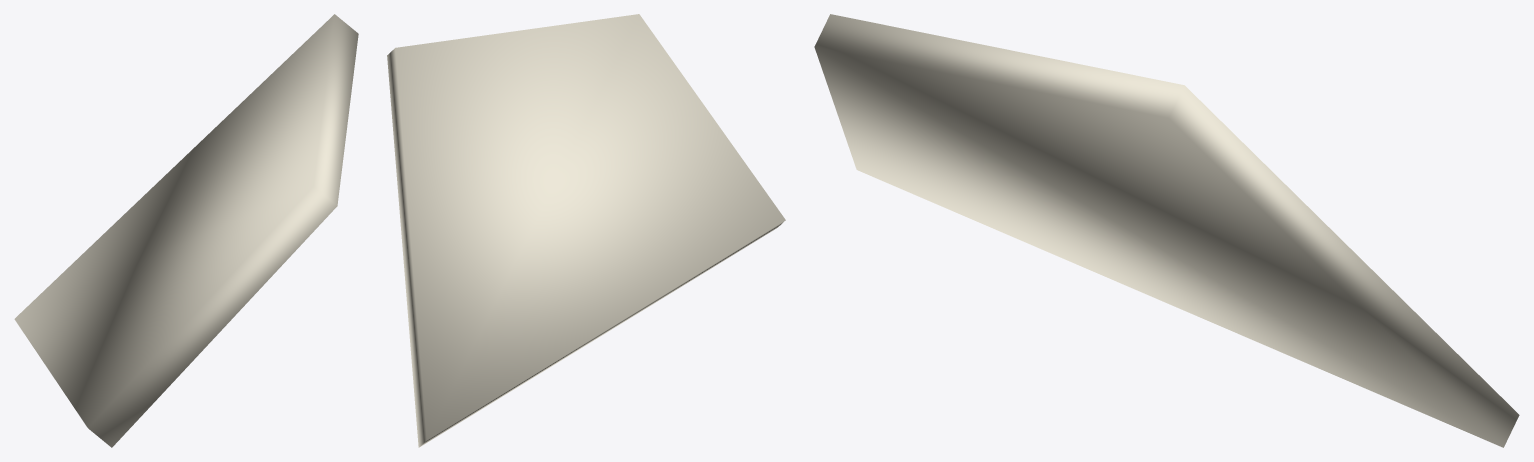
3 renders of one model, left to right at view 1: azimuth 30°, elevation 25°; view 2: azimuth 150°, elevation 25°; view 3: azimuth 270°, elevation 25°, orthographic. The views are drawn at different scales.
Visible parts, largest first — view 1: ZA_44937403db48a08e; view 2: ZA_44937403db48a08e; view 3: ZA_44937403db48a08e.
Boxes of the visible parts, x1,y1,x2,y2 form: ZA_44937403db48a08e: (14, 14, 358, 447); ZA_44937403db48a08e: (387, 14, 785, 447); ZA_44937403db48a08e: (814, 14, 1519, 447).
Bounding box in the file's own units: 0.00712 × 0.0066 × 0.00921.
